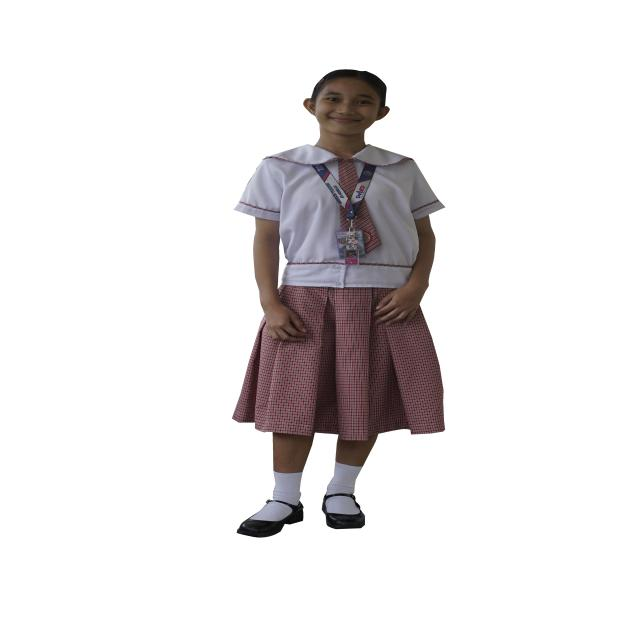id lace: (312, 163, 375, 227)
pologirl: (236, 142, 446, 292)
shoes: (237, 500, 303, 537), (322, 493, 365, 529)
skirt: (233, 285, 445, 441)
